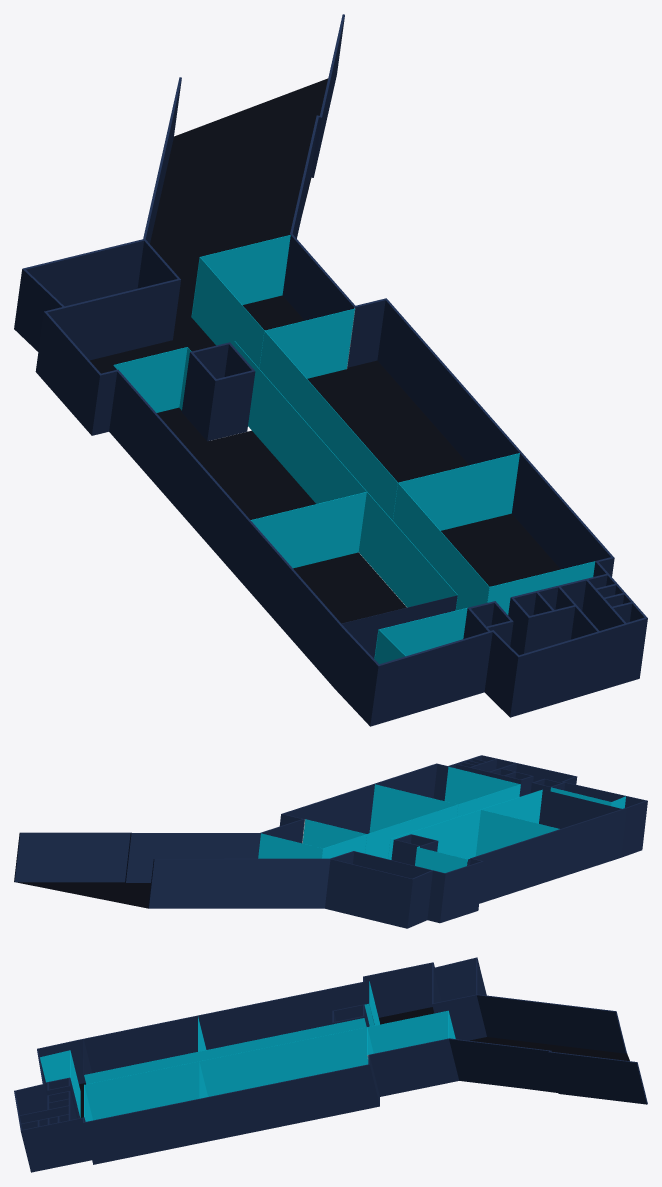
3 views of the same model, one above another, from view 1: azimuth 30°, elevation 25°; view 2: azimuth 150°, elevation 25°; view 3: azimuth 270°, elevation 25° (orthographic). The views are drawn at different scales.
Parts seen in each view (by area): view 1: Mesh20, Mesh21, Mesh67, Mesh34, Mesh57, Mesh4, Mesh37, Mesh39, Mesh1, Mesh24, Mesh71, Mesh58 (+26 smaller); view 2: Mesh28, Mesh21, Mesh29, Mesh26, Mesh31, Mesh34, Mesh57, Mesh67, Mesh71, Mesh58, Mesh23, Mesh20 (+15 smaller); view 3: Mesh34, Mesh67, Mesh21, Mesh28, Mesh31, Mesh29, Mesh32, Mesh57, Mesh36, Mesh23, Mesh25, Mesh27 (+8 smaller).
Boxes of the visible parts, bbox=[...] form: Mesh20: bbox=[150, 78, 327, 351]; Mesh21: bbox=[109, 369, 345, 688]; Mesh67: bbox=[191, 257, 489, 610]; Mesh34: bbox=[377, 299, 614, 576]; Mesh57: bbox=[234, 341, 457, 609]; Mesh4: bbox=[307, 360, 468, 482]; Mesh37: bbox=[509, 617, 645, 717]; Mesh39: bbox=[369, 630, 492, 726]; Mesh1: bbox=[157, 407, 315, 519]; Mesh24: bbox=[46, 278, 180, 360]; Mesh71: bbox=[392, 453, 519, 530]; Mesh58: bbox=[250, 492, 366, 568]; Mesh28: bbox=[148, 858, 330, 908]; Mesh21: bbox=[470, 808, 626, 903]; Mesh29: bbox=[14, 832, 130, 882]; Mesh26: bbox=[325, 859, 413, 928]; Mesh31: bbox=[127, 833, 261, 882]; Mesh34: bbox=[282, 763, 437, 841]; Mesh57: bbox=[388, 789, 542, 860]; Mesh67: bbox=[321, 784, 520, 859]; Mesh71: bbox=[369, 784, 458, 833]; Mesh58: bbox=[475, 810, 559, 856]; Mesh23: bbox=[438, 861, 482, 923]; Mesh20: bbox=[16, 882, 150, 908]; Mesh34: bbox=[83, 1064, 378, 1164]; Mesh67: bbox=[84, 1011, 455, 1120]; Mesh21: bbox=[78, 981, 374, 1073]; Mesh28: bbox=[476, 994, 626, 1053]; Mesh31: bbox=[447, 1038, 557, 1092]; Mesh29: bbox=[549, 1051, 647, 1104]; Mesh32: bbox=[368, 1039, 459, 1096]; Mesh57: bbox=[84, 1018, 366, 1084]; Mesh36: bbox=[20, 1117, 91, 1172]; Mesh23: bbox=[364, 962, 434, 1017]; Mesh25: bbox=[433, 994, 486, 1040]; Mesh27: bbox=[433, 957, 475, 1001].
Size of the model in its own units: 127 by 70.34 by 240.
2 materials, 2 textured.
